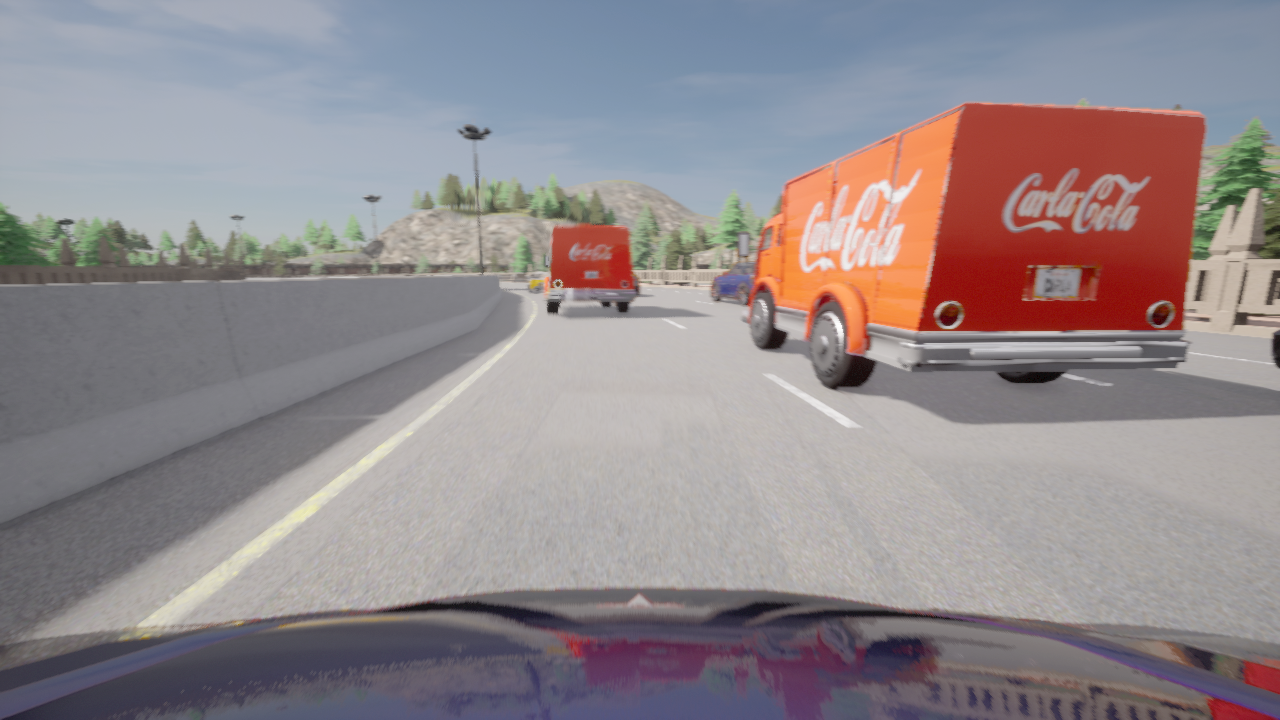cyclist: (0, 588, 1279, 719), (737, 102, 1206, 388), (543, 225, 635, 314), (711, 261, 755, 305), (527, 272, 547, 293), (1271, 330, 1279, 368), (632, 272, 639, 295)
